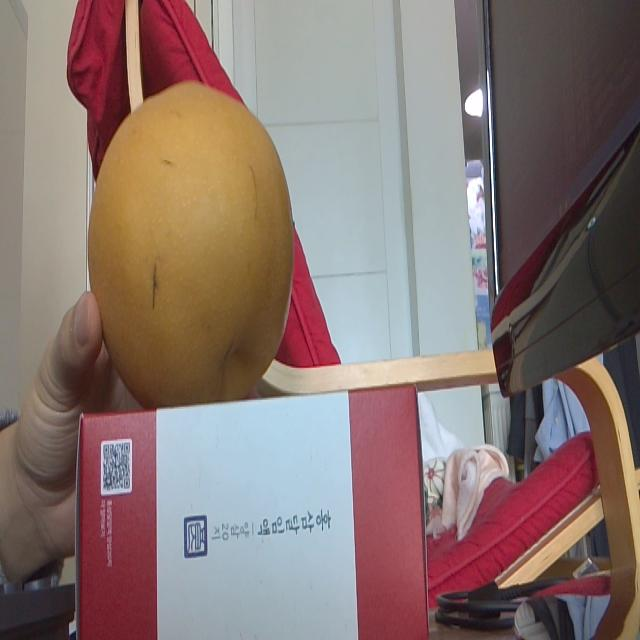pear: (89, 83, 294, 396)
